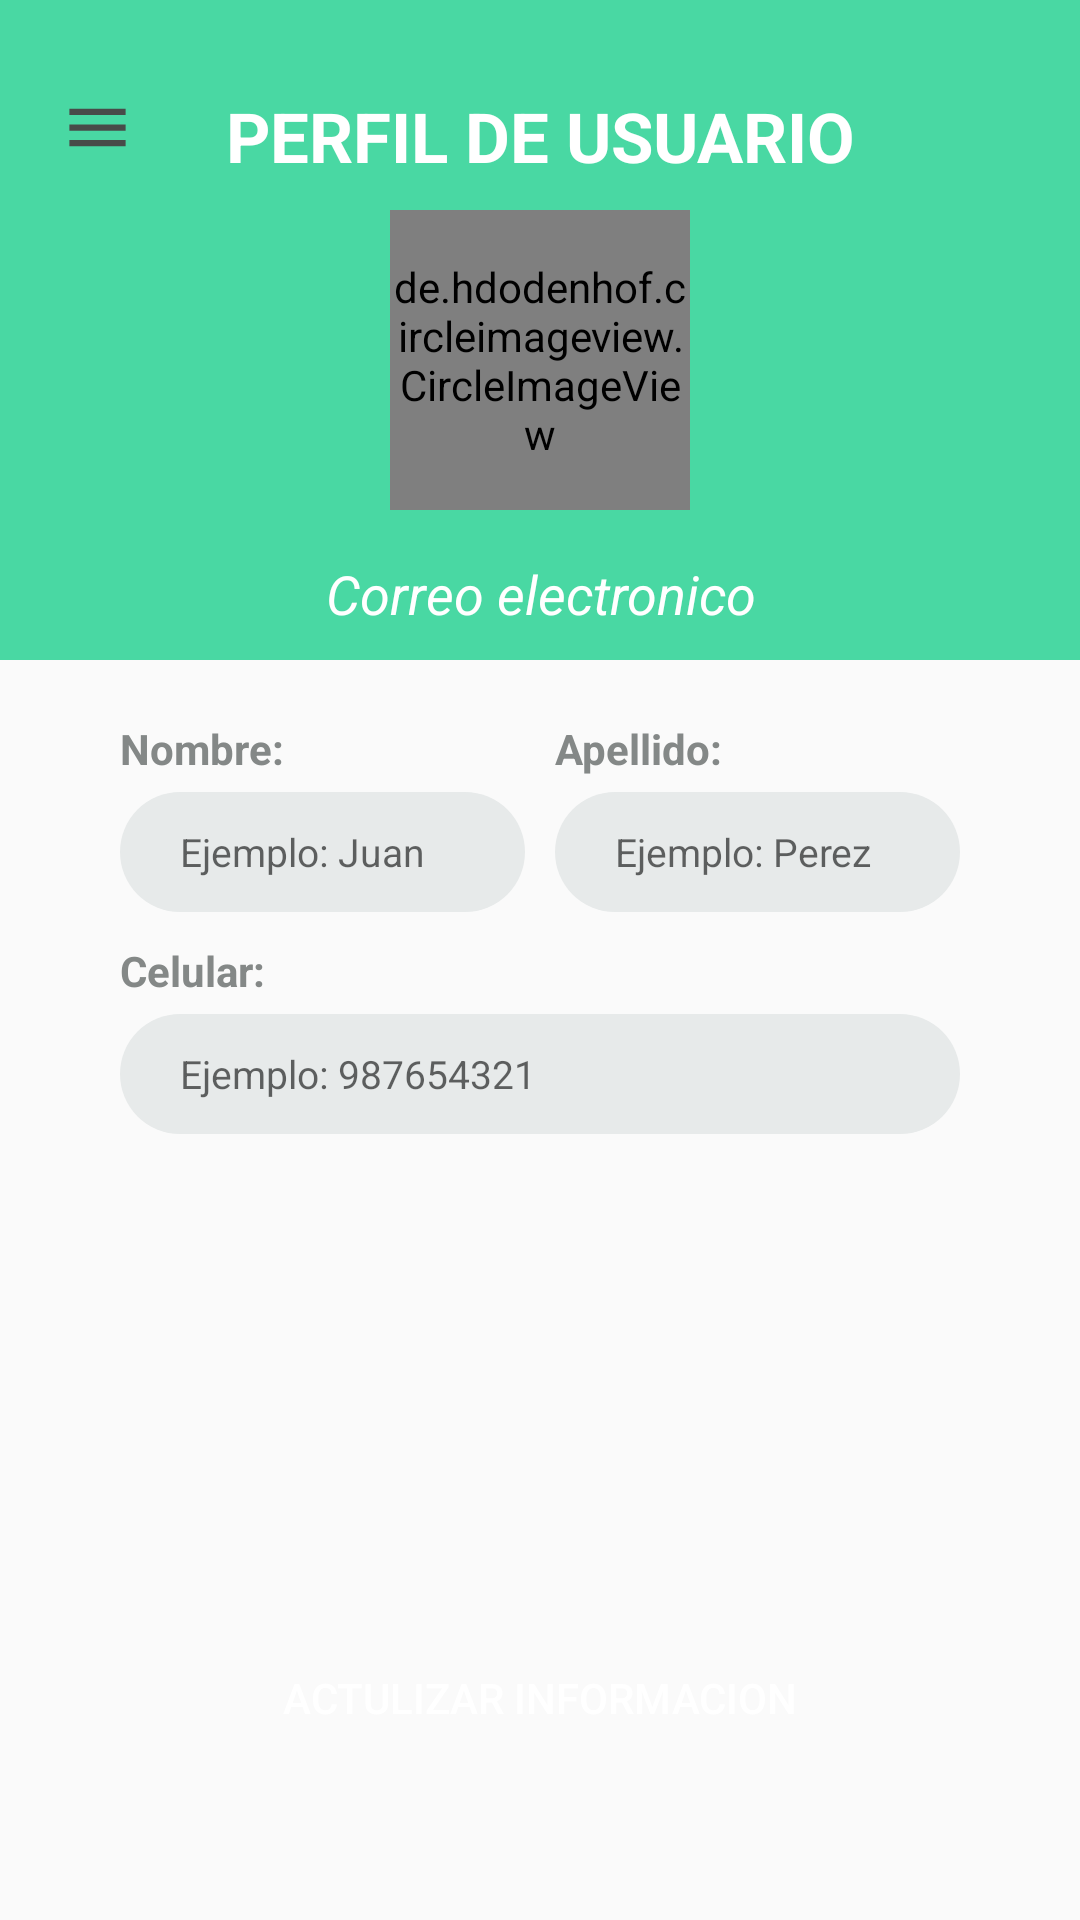

Named icons in this screenshot (1080px x 1920px) and their bounding boxes, (x1, y1, x2, y2):
menu: (69, 108, 126, 147)
